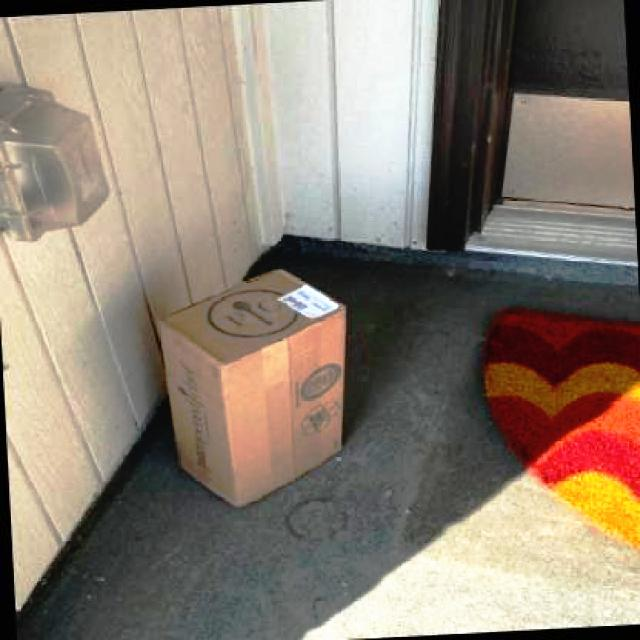Box: (151, 264, 354, 511)
